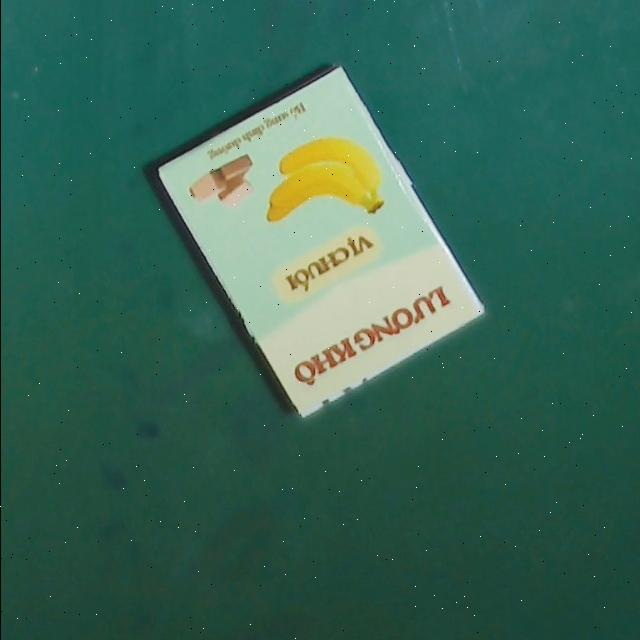chuoi: (150, 61, 483, 421)
